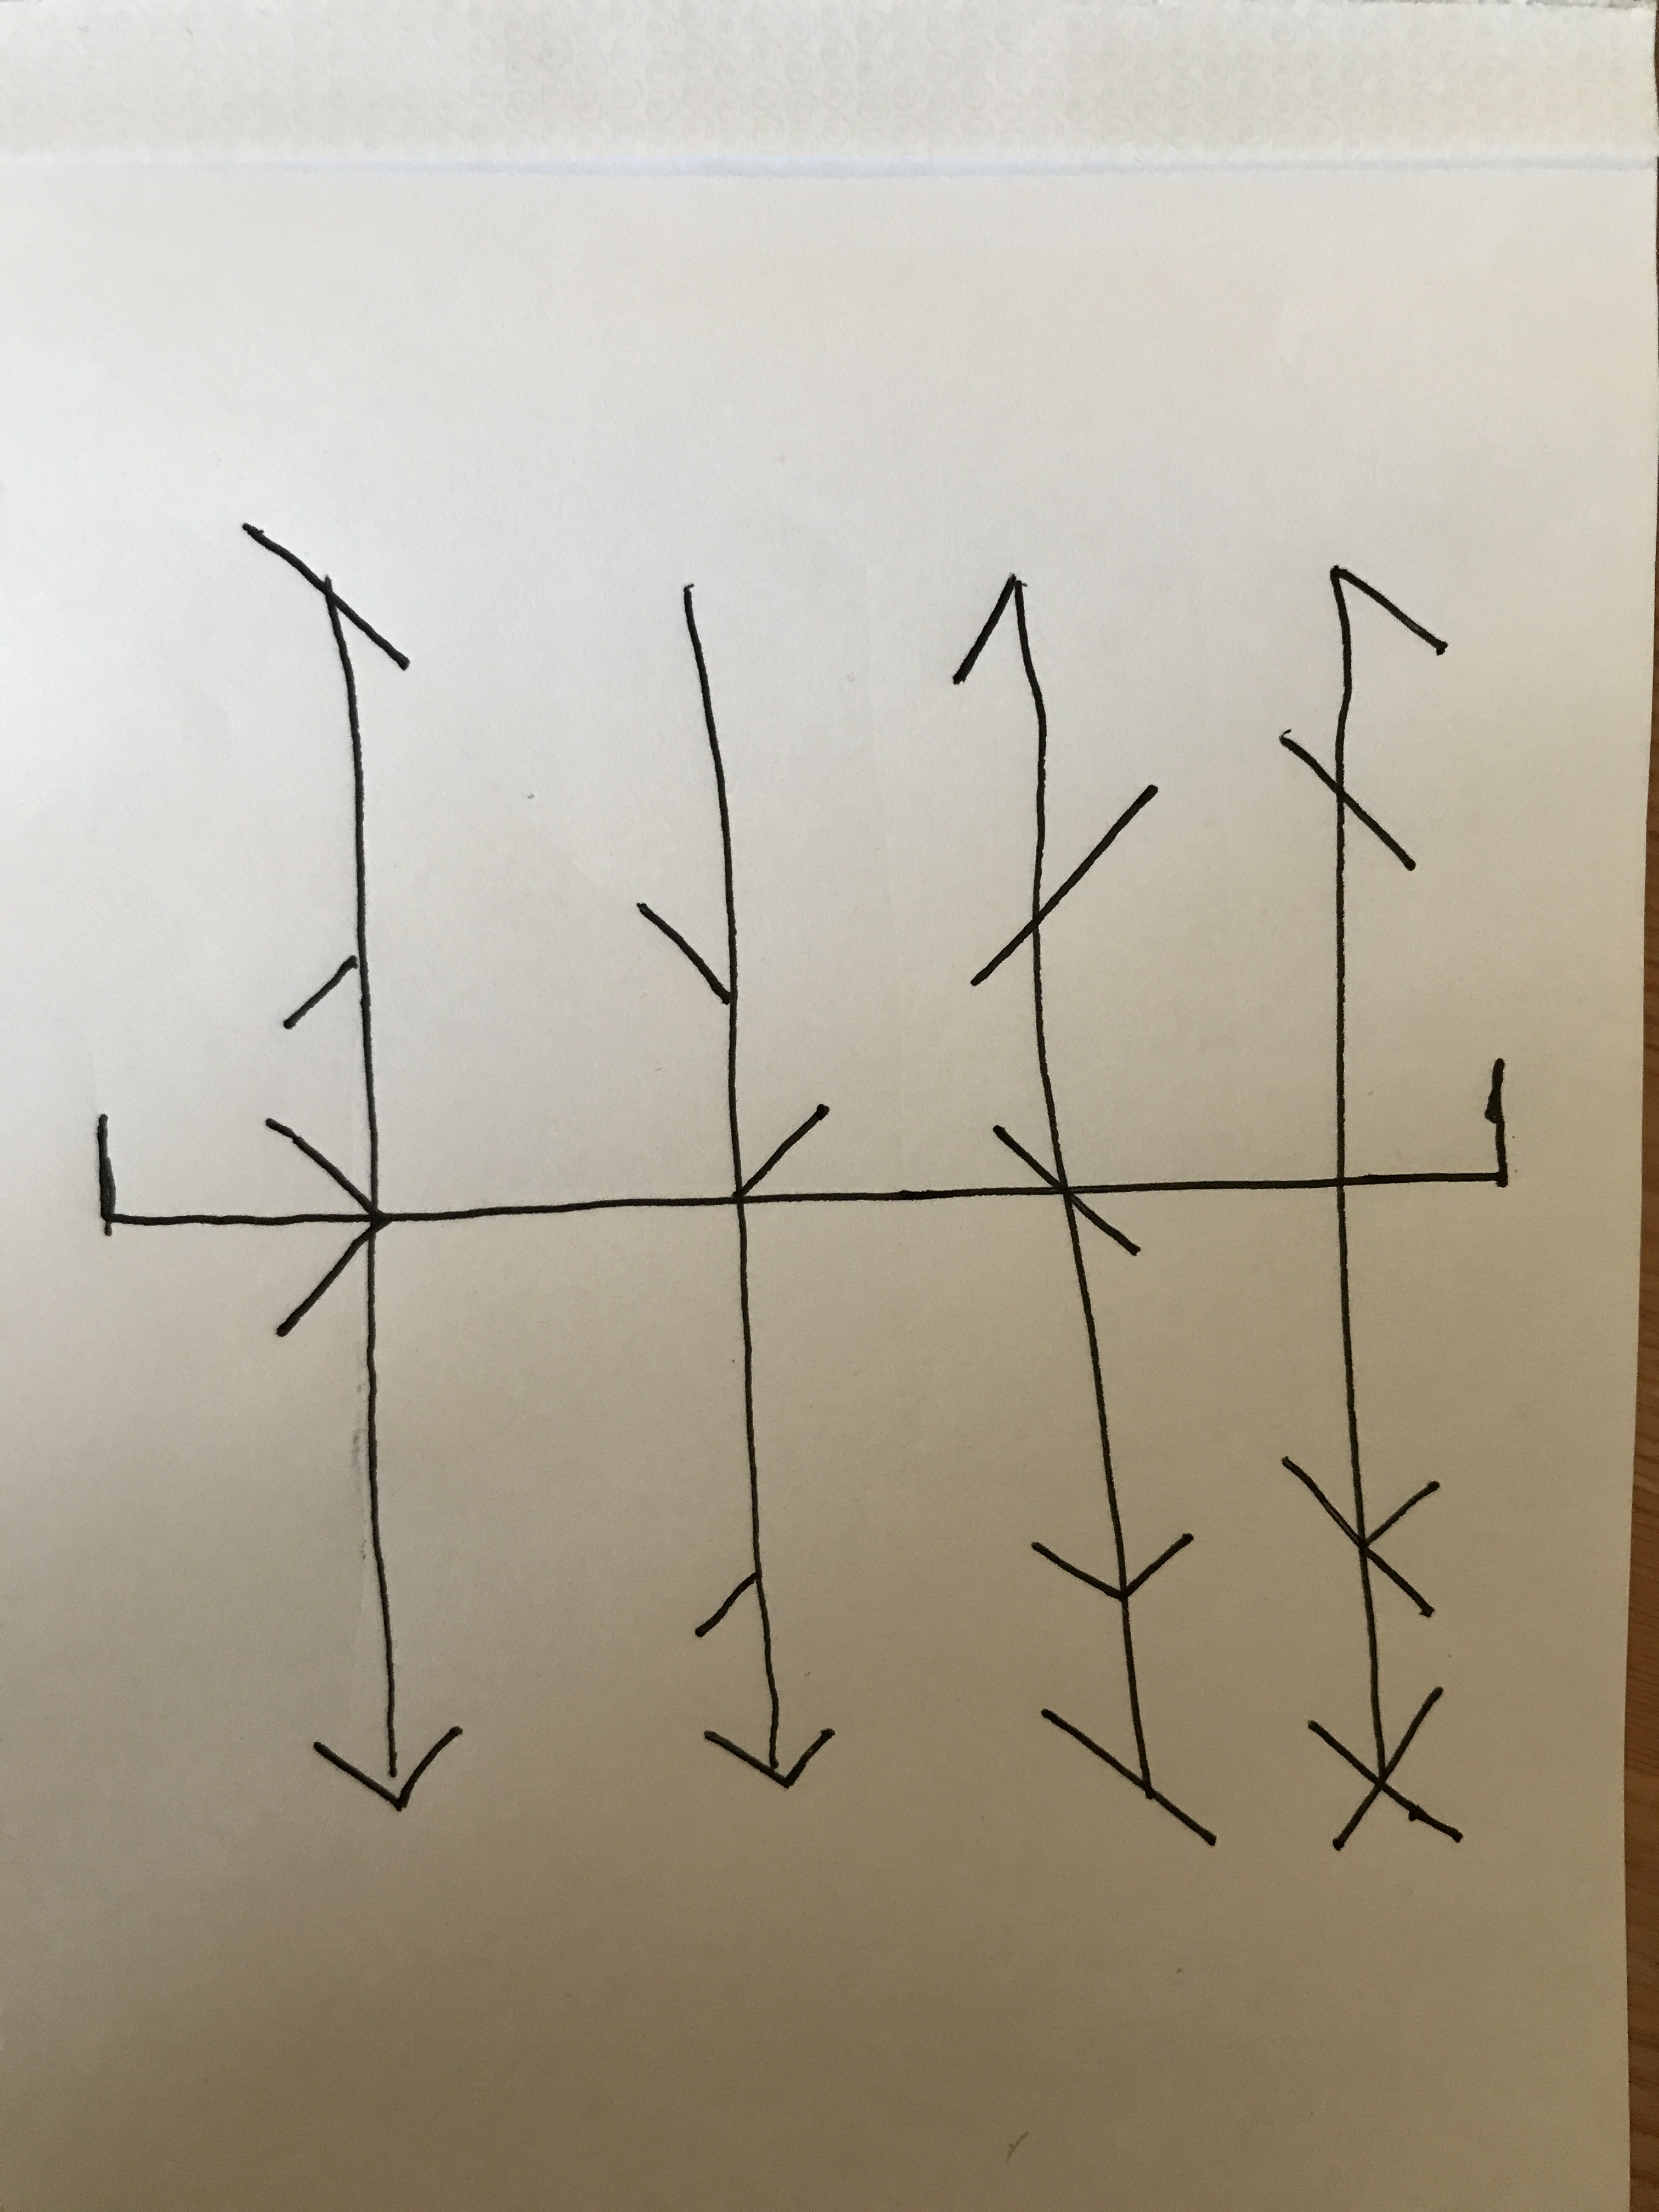Bar: (951, 575, 1222, 1848), (240, 521, 465, 1811), (636, 585, 835, 1792), (1279, 566, 1466, 1850)
Barcode: (98, 523, 1509, 1858)
End: (1347, 1057, 1509, 1190)
Start: (94, 1111, 263, 1233)
